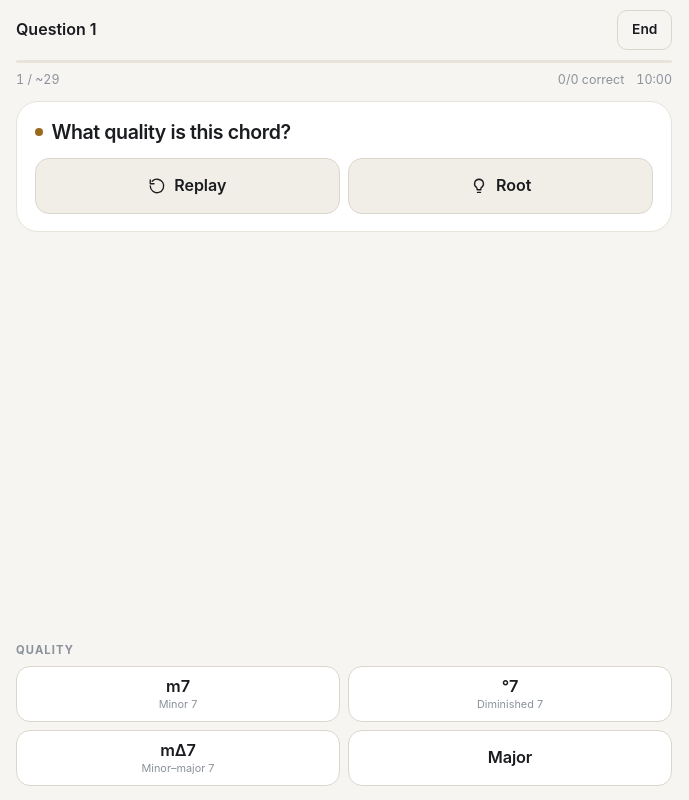
Test case: the answer panel folds away › hides the answer and brings it back
The image size is (689, 800).
Click the button "m7 Minor 7" at x=178, y=694, box top-left (16, 666), bottom-right (340, 722)
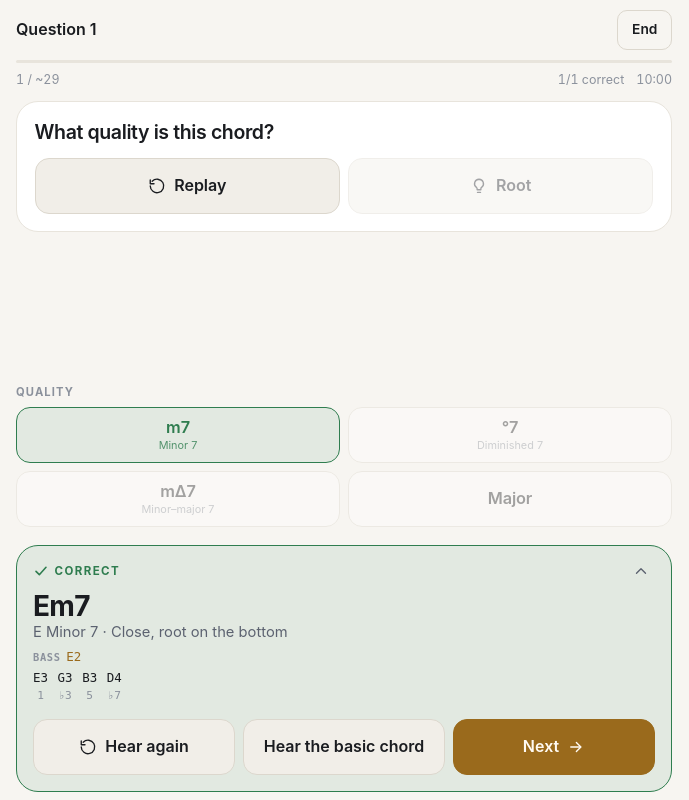
Expected: the button with class "feedback__fold" is shown
Click the button with class "feedback__fold" at x=641, y=571, box top-left (619, 549), bottom-right (663, 593)
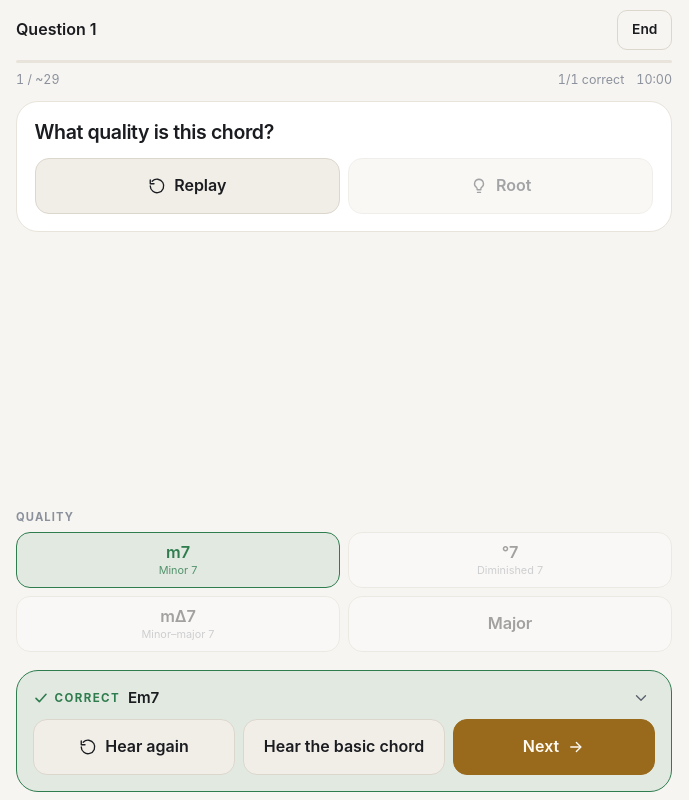
Click the button with class "feedback__fold" at x=641, y=698, box top-left (619, 676), bottom-right (663, 720)
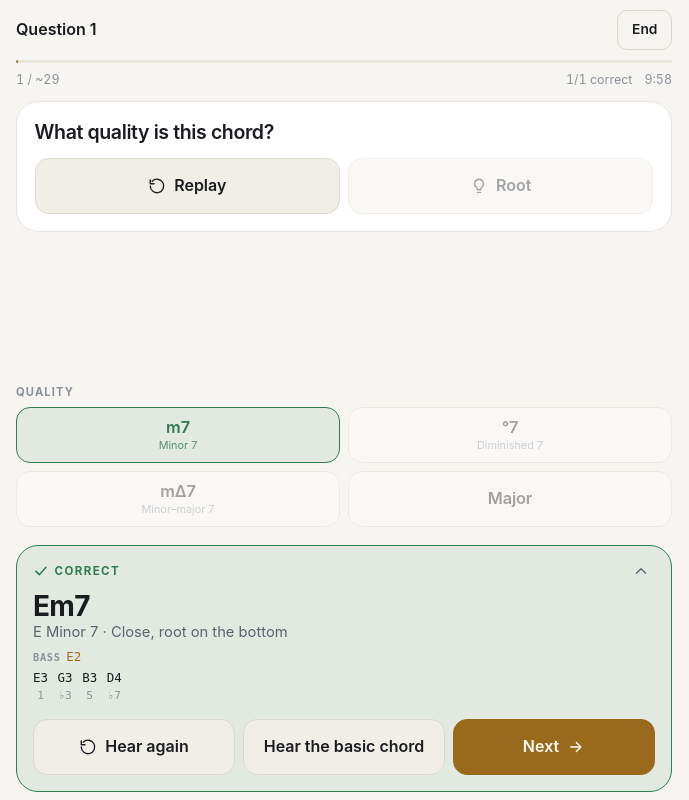
Expected: the button with class "feedback__fold" is expanded, top-left (619, 549), bottom-right (663, 593)
